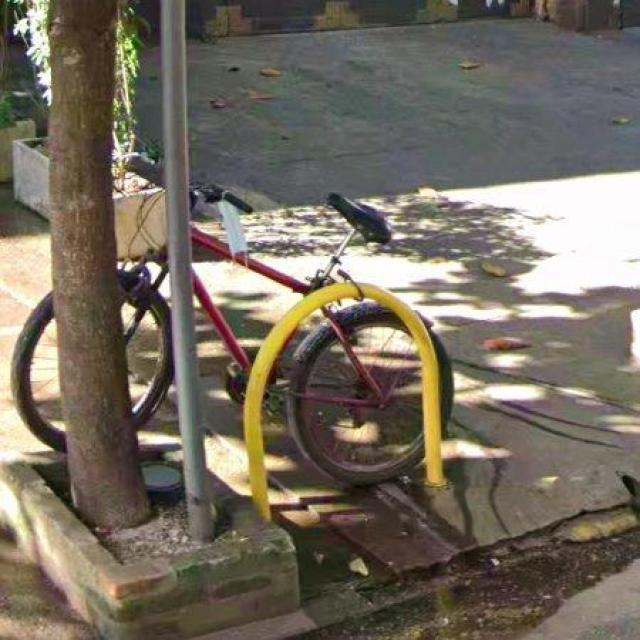bicycle: (291, 291, 425, 486), (192, 186, 393, 296), (118, 253, 175, 427), (13, 296, 67, 453), (195, 276, 253, 406), (424, 320, 456, 423)
